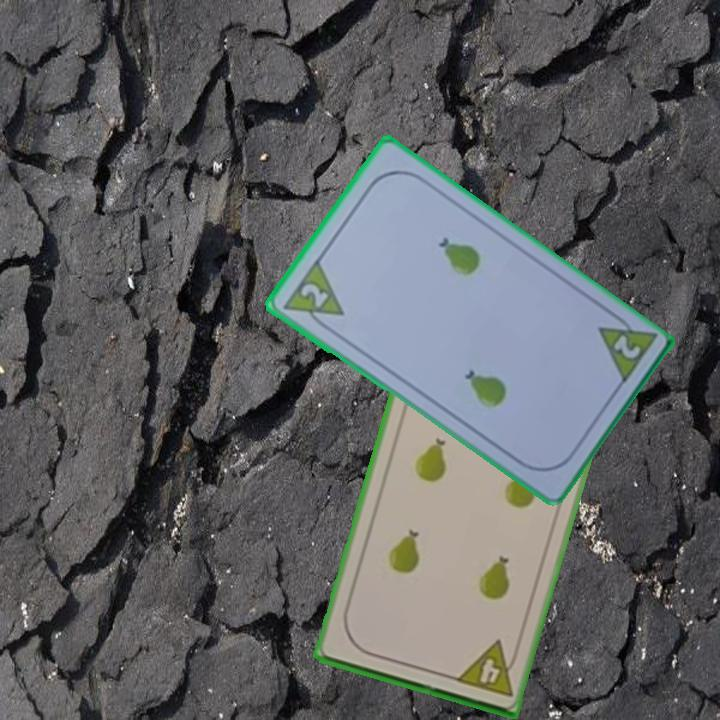2p: (278, 256, 346, 335), (609, 330, 643, 362)
4p: (451, 637, 522, 700)
